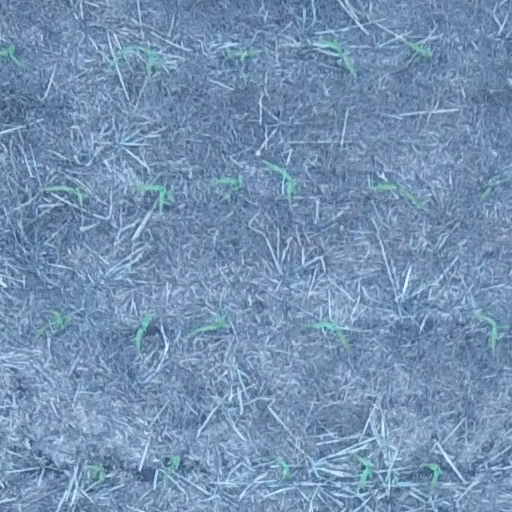planta: (114, 43, 160, 76), (370, 181, 423, 208), (307, 319, 351, 350), (318, 40, 356, 75), (472, 312, 506, 348), (131, 182, 174, 210), (265, 161, 296, 199), (37, 309, 71, 337), (350, 452, 375, 490), (41, 182, 90, 200), (213, 175, 243, 203), (189, 314, 227, 336), (399, 36, 432, 60), (419, 461, 443, 490), (161, 453, 180, 487), (133, 313, 151, 344), (478, 180, 501, 203), (273, 456, 291, 480), (86, 464, 107, 484), (224, 48, 256, 60)
